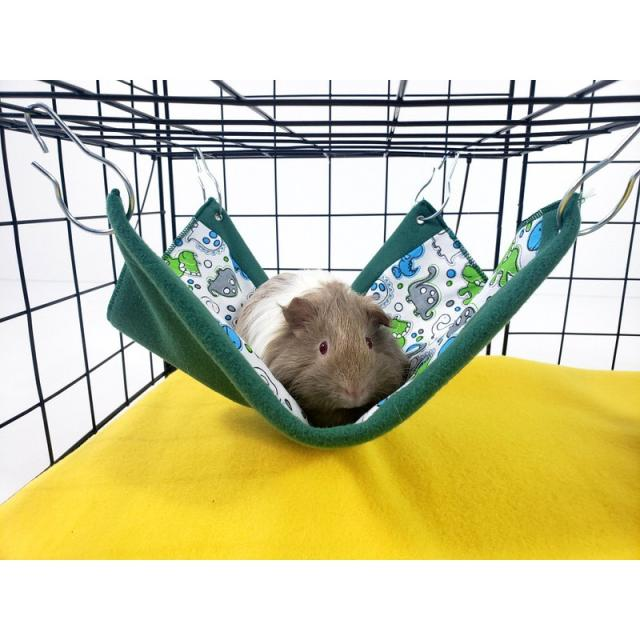guinea pig: (235, 274, 401, 412)
